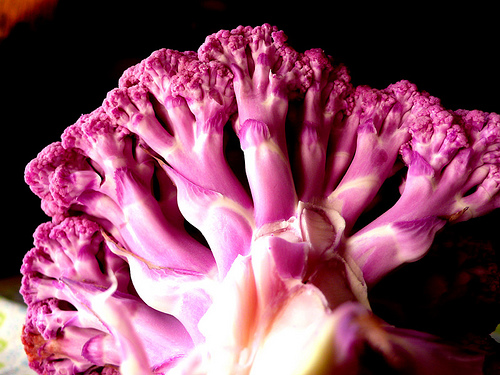cauliflower: (19, 25, 499, 373)
